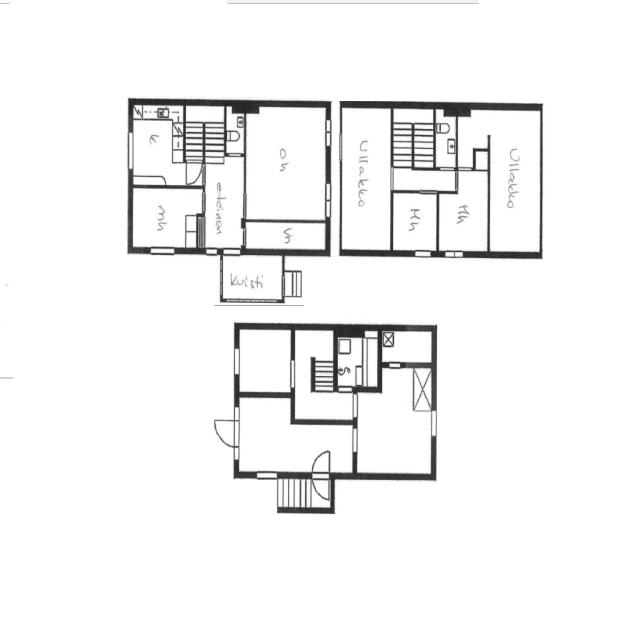door: (310, 447, 333, 498), (212, 415, 241, 450), (184, 159, 205, 187), (312, 474, 332, 500)
window: (322, 179, 334, 223), (252, 467, 283, 483), (126, 128, 136, 174), (147, 244, 179, 258), (323, 115, 333, 152), (220, 244, 244, 259), (232, 344, 242, 379), (336, 130, 346, 162), (441, 248, 467, 260), (411, 247, 435, 260), (288, 356, 297, 390), (429, 406, 438, 439), (205, 244, 222, 259), (238, 224, 248, 247)
zone: (242, 104, 328, 223), (234, 396, 356, 475), (360, 362, 434, 475), (487, 106, 542, 253), (340, 104, 392, 252), (130, 187, 202, 250), (130, 104, 184, 187), (438, 168, 490, 253), (236, 327, 294, 394), (294, 328, 336, 419), (392, 190, 438, 252), (392, 106, 436, 170), (243, 219, 328, 252), (335, 330, 381, 388), (380, 328, 435, 365), (434, 109, 457, 169), (225, 100, 244, 151)
